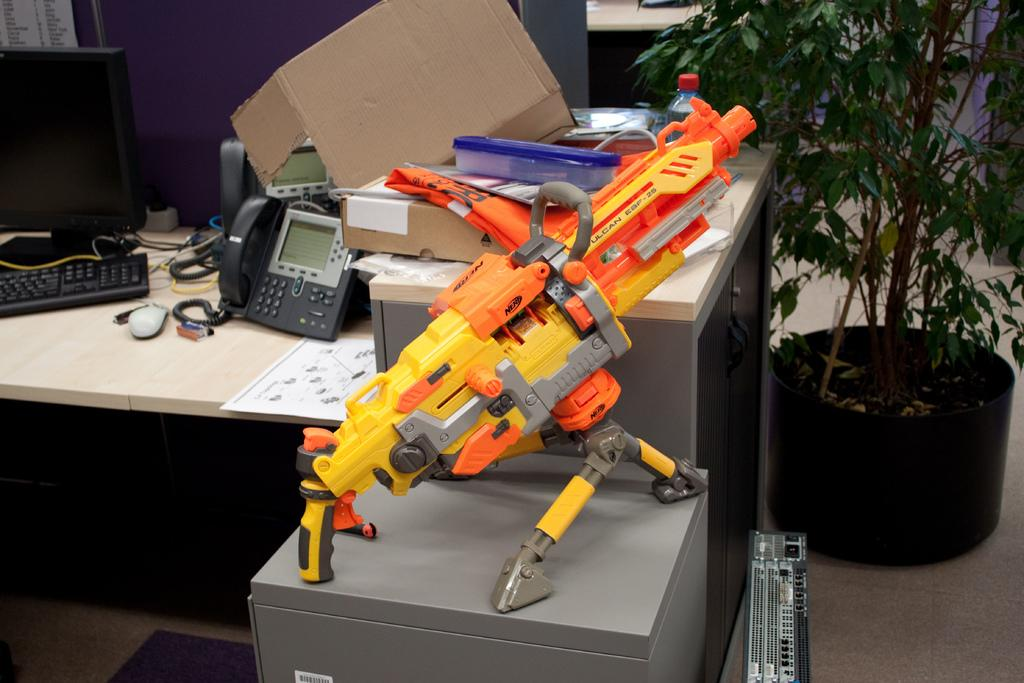weapon: (296, 95, 756, 612)
